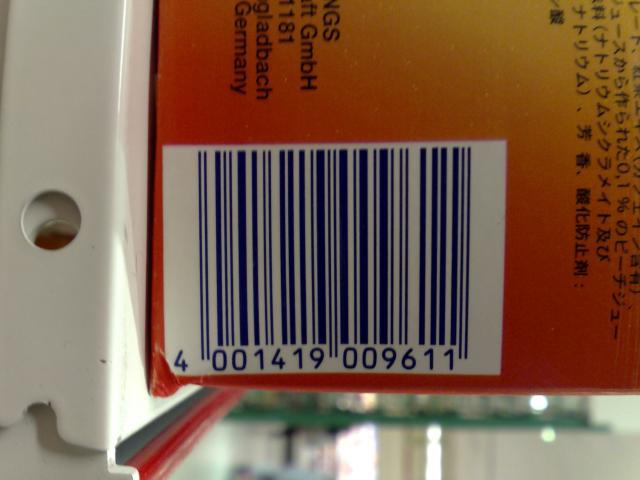Barkod: (197, 146, 472, 348)
